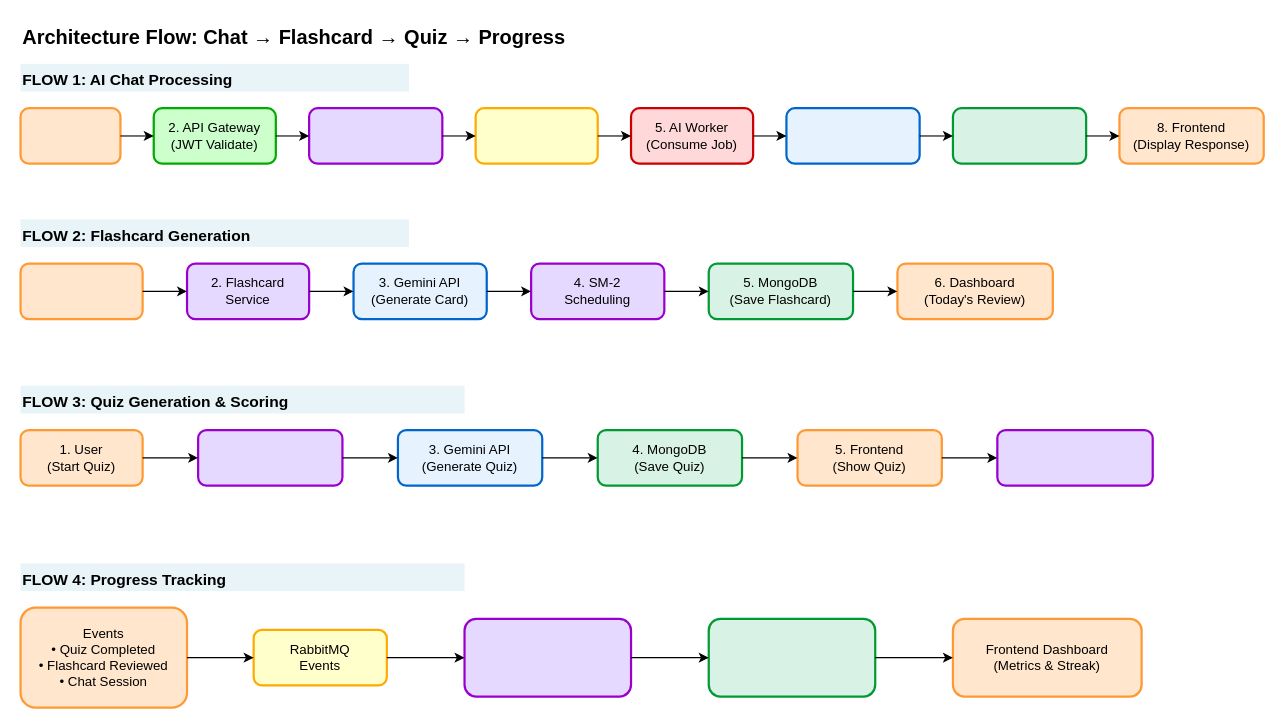
Some shapes in this 1283 by 727 pixel diagram are drawn without their labels. The shapes that lost their labels are listed below. From the top down, each one's centre as x and y in pixels, then its label:
At point 70,135: "1. User".
At point 375,135: "3. Chat Service (Persist Request)".
At point 536,135: "4. RabbitMQ (Queue Job)".
At point 852,135: "6. Gemini API (Generate Answer)".
At point 1019,135: "7. MongoDB (Save Transcript)".
At point 81,291: "1. User Tags Message".
At point 269,457: "2. Quiz Service (Fetch Context)".
At point 1074,457: "6. Grade Result + Save Score".
At point 547,657: "Progress Service (Canonical Source)".
At point 791,657: "MongoDB (progress collection)".
